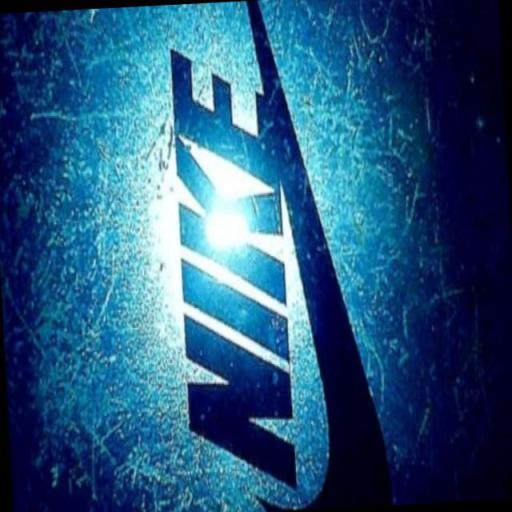Nike: (162, 34, 300, 497)
